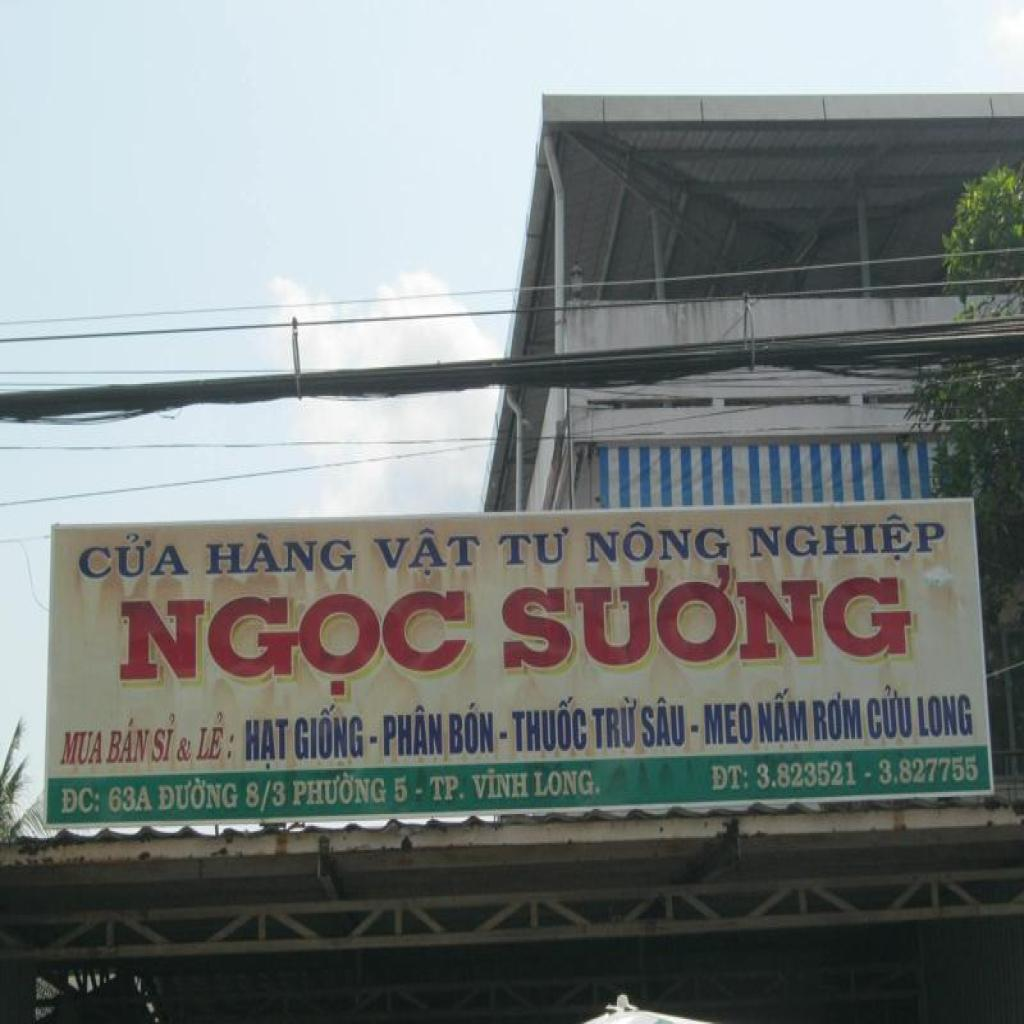text: (497, 556, 915, 681), (110, 584, 469, 705), (745, 510, 952, 568), (204, 527, 362, 577), (582, 517, 734, 567), (76, 527, 190, 582), (363, 528, 484, 578), (508, 695, 590, 754), (289, 701, 366, 763), (376, 700, 447, 761), (288, 766, 388, 809), (754, 681, 810, 746), (154, 775, 240, 817), (497, 526, 572, 572), (753, 758, 860, 790), (241, 710, 293, 773), (916, 690, 978, 740), (810, 689, 864, 746), (863, 681, 914, 741), (589, 694, 641, 752), (446, 698, 496, 756), (640, 691, 687, 751), (531, 763, 604, 799), (702, 698, 756, 746), (106, 714, 150, 764), (470, 764, 530, 800), (193, 708, 228, 763), (58, 729, 105, 768), (58, 783, 104, 821), (109, 780, 156, 816), (426, 772, 470, 808), (151, 712, 179, 764), (708, 760, 750, 794), (242, 776, 261, 812), (392, 775, 412, 807), (256, 780, 274, 814), (176, 732, 194, 765), (270, 776, 288, 809), (224, 732, 237, 763)
